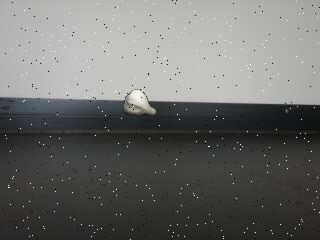Garlic: (124, 89, 156, 116)
